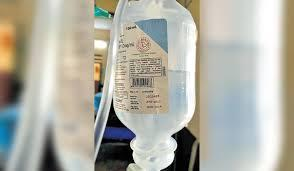Iv_Bottle: (113, 0, 196, 169)
